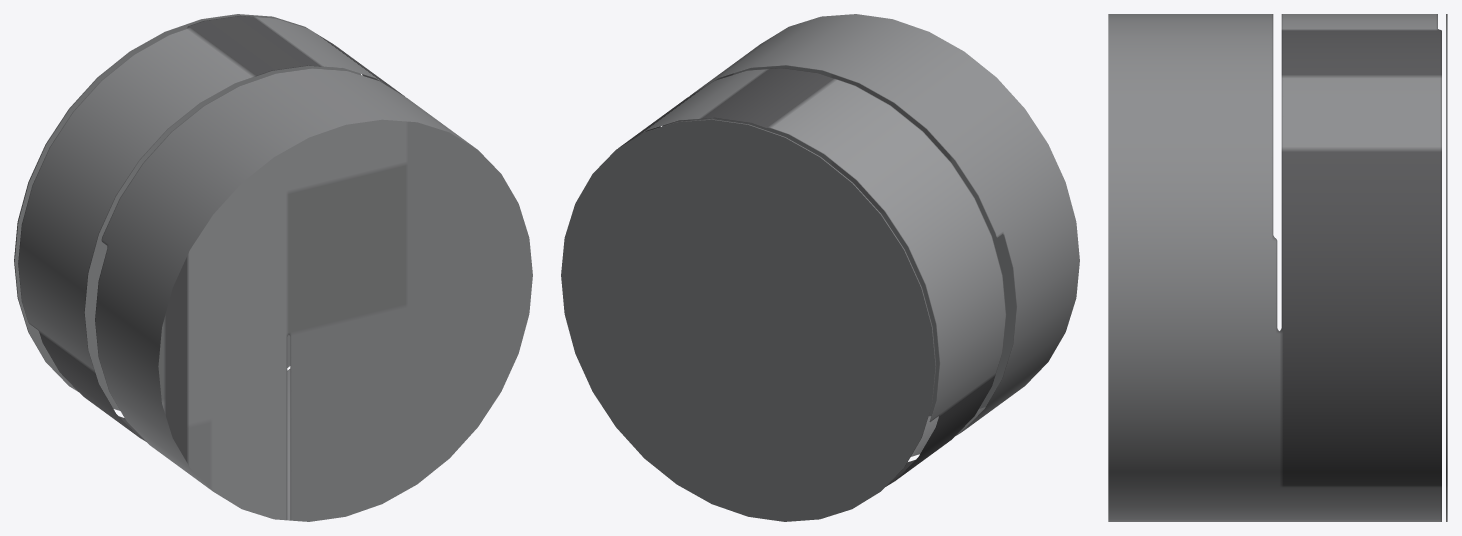
3 views of the same model, side by side, from view 1: azimuth 30°, elevation 25°; view 2: azimuth 150°, elevation 25°; view 3: azimuth 270°, elevation 25° (orthographic). The views are drawn at different scales.
Size of the model in its own units: 0.6768 by 0.6768 by 0.452.
